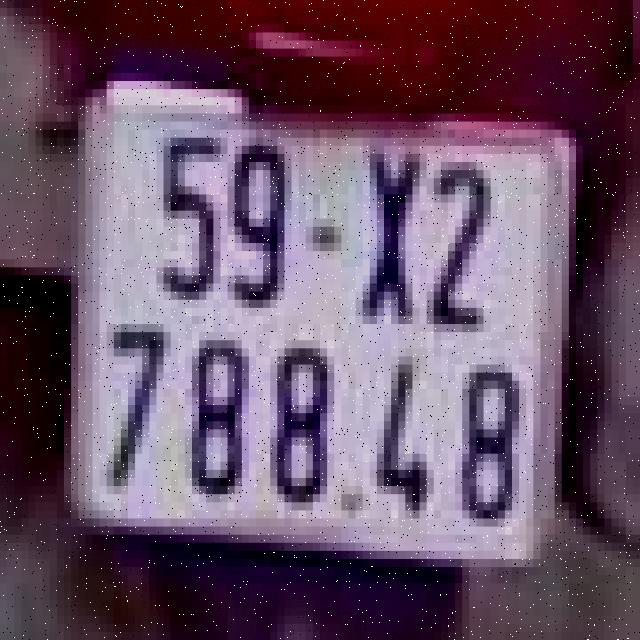2: (427, 154, 498, 332)
4: (373, 340, 438, 527)
5: (146, 125, 231, 304)
7: (92, 320, 178, 506)
8: (263, 328, 341, 531), (182, 320, 252, 514), (452, 360, 522, 522)
9: (231, 134, 295, 304)
X: (356, 142, 426, 328)
